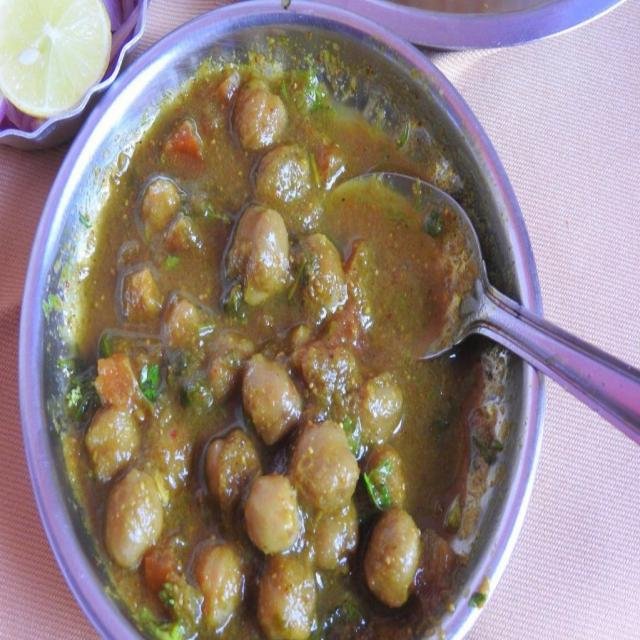Chole: (70, 52, 441, 640)
